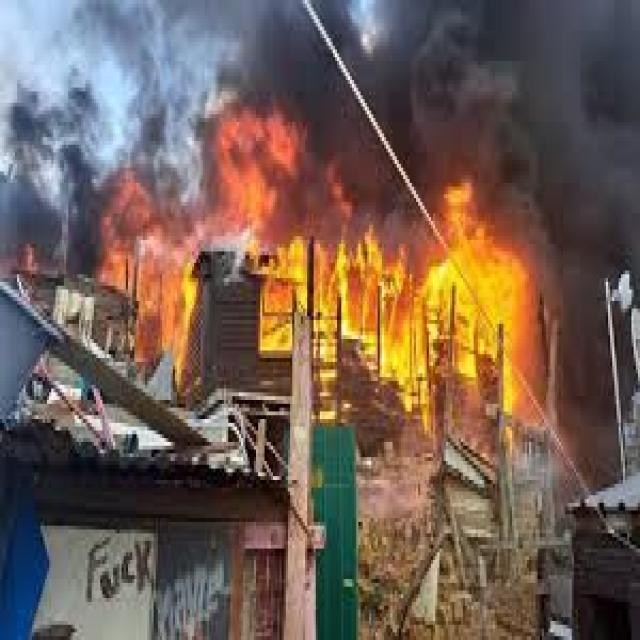Fire: (262, 228, 426, 397), (415, 210, 541, 422), (110, 203, 198, 386), (198, 128, 308, 258)
Smoke: (297, 0, 640, 268), (9, 20, 198, 272), (548, 249, 602, 472)
